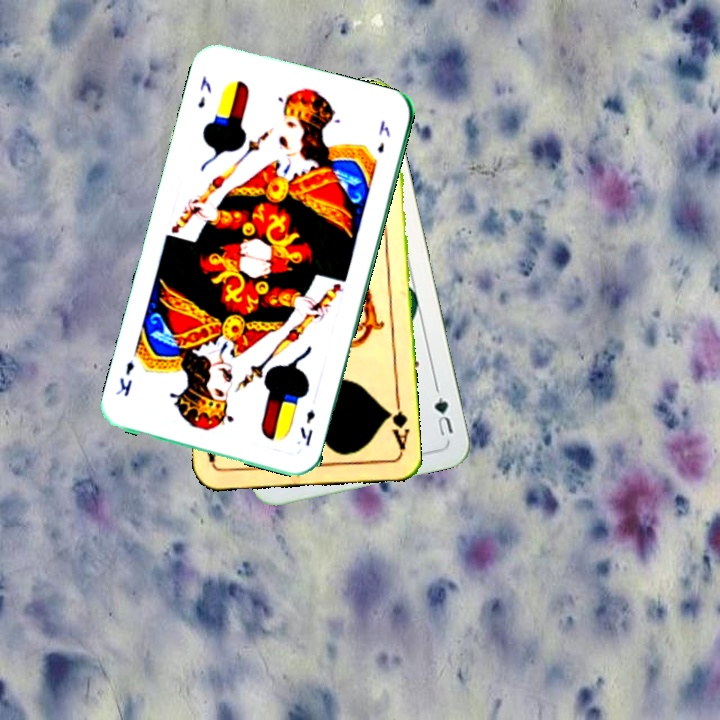EK: (296, 405, 318, 448), (193, 72, 214, 111)
GA: (383, 395, 411, 454)
GU: (430, 393, 456, 439)
